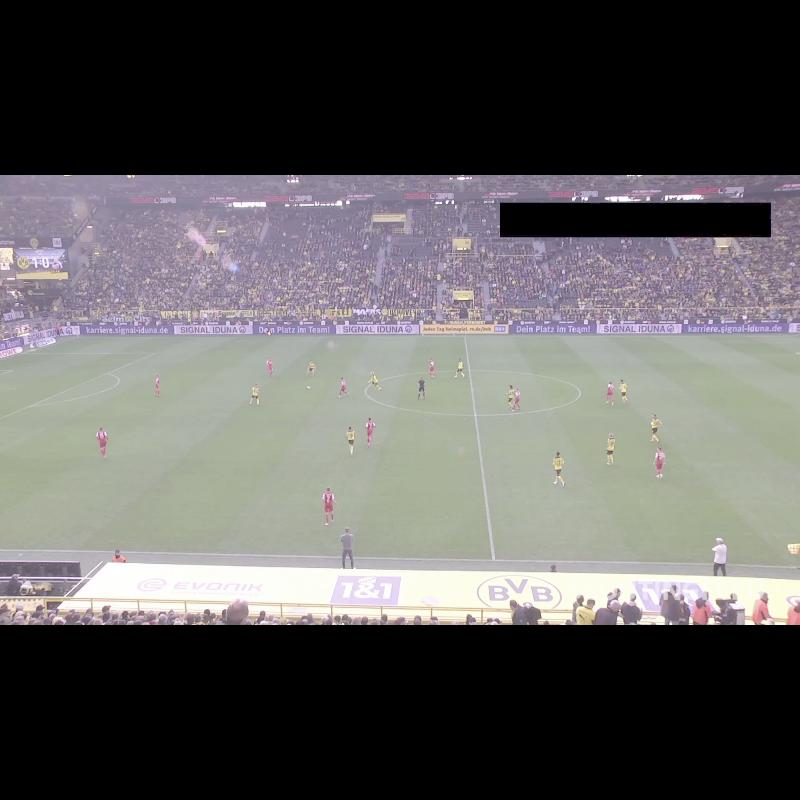cross_recipient_zone: (0, 353, 154, 419)
crossing_player_zone: (22, 337, 252, 354), (680, 333, 800, 353), (0, 465, 24, 487)
pitch: (0, 333, 800, 566)
